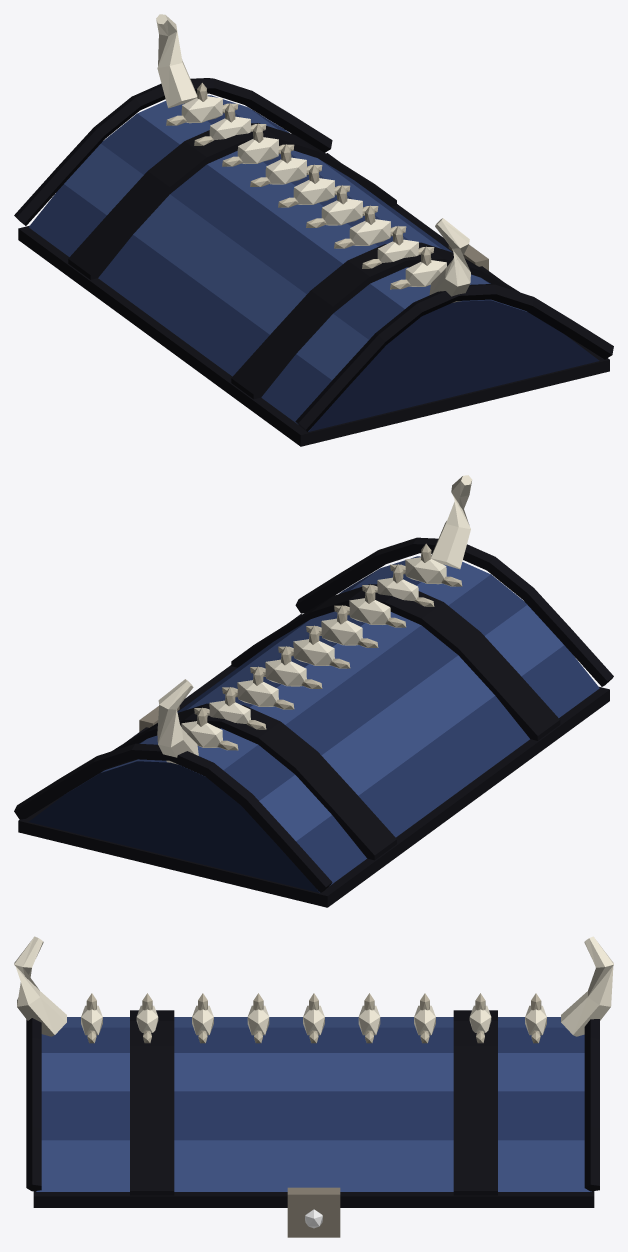
File: Chest_BoneLid.fbx
3 views of the same model, one above another, from view 1: azimuth 30°, elevation 25°; view 2: azimuth 150°, elevation 25°; view 3: azimuth 270°, elevation 25° (orthographic).
Visible parts, largest first — view 1: Chest_BoneLid; view 2: Chest_BoneLid; view 3: Chest_BoneLid.
Part boxes in pixels (<box>): Chest_BoneLid: <box>14,14,613,446</box>; Chest_BoneLid: <box>14,475,613,907</box>; Chest_BoneLid: <box>14,936,613,1237</box>.
Size of the model in its own units: 0.7116 by 0.4519 by 1.13.
Materials: 2 (1 with a texture image).
